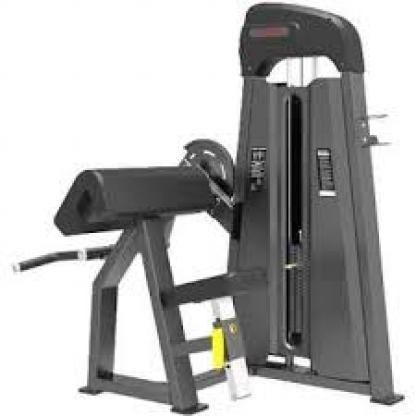arm curl machine: (12, 2, 407, 414)
